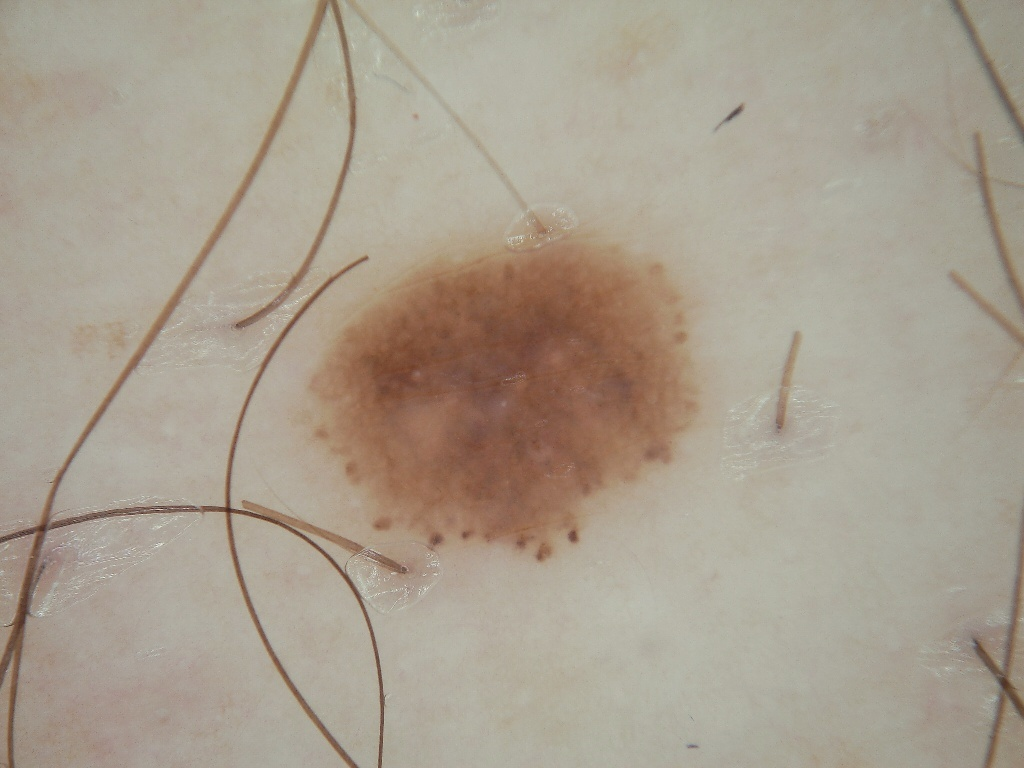Detected Lesion: (306, 216, 714, 569)
